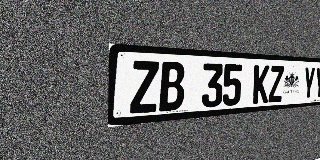3: (202, 63, 223, 108)
5: (222, 64, 242, 106)
B: (159, 61, 185, 112)
K: (253, 65, 270, 104)
Y: (302, 67, 315, 100), (314, 67, 320, 99)
Z: (130, 60, 159, 114), (268, 65, 284, 103)
